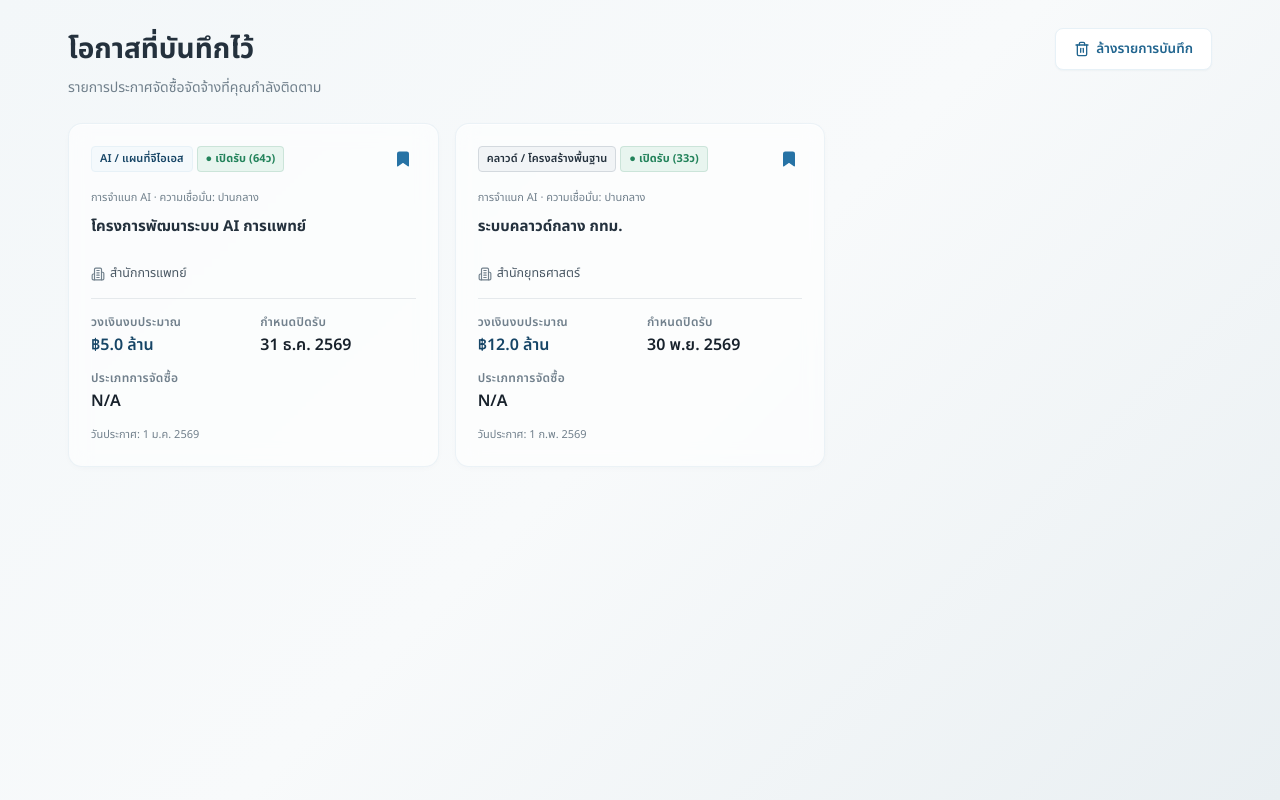
it: SavedPage Component › clears all bookmarked items when Clear All button is clicked
expect the heading "โครงการพัฒนาระบบ AI การแพทย์" is shown: met, box [91,215,306,238]
expect the heading "ระบบคลาวด์กลาง กทม." is shown: met, box [478,215,623,238]
# Click the clear all bookmarks button in header
Click the button "ล้างรายการบันทึก".
click(1134, 49)  # box [1055,28,1212,70]
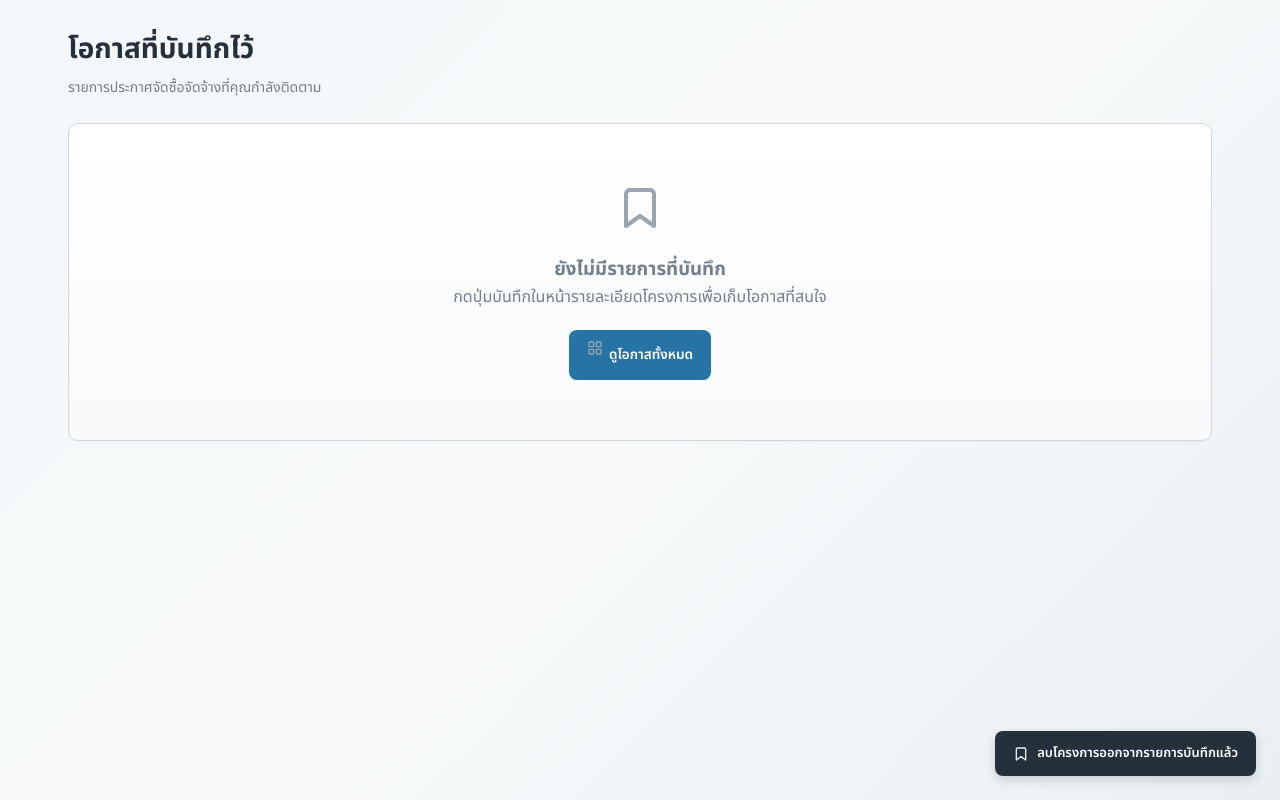
expect the heading "ยังไม่มีรายการที่บันทึก" is shown: met, box [554,255,726,283]
